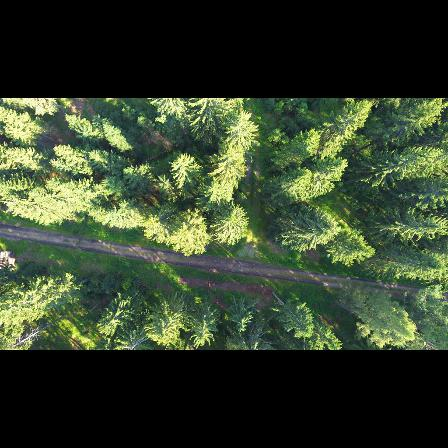Dead: (8, 321, 44, 350)
Sick: (114, 323, 152, 350)
